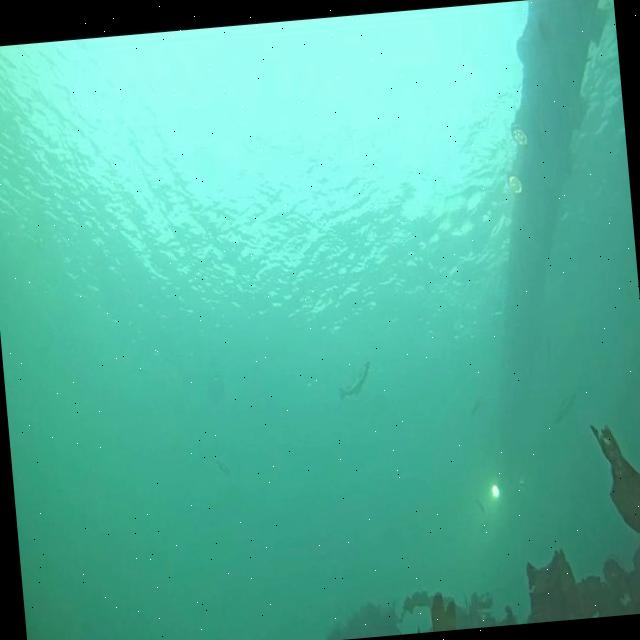fish: (335, 358, 373, 402), (549, 392, 582, 429), (462, 391, 486, 430), (212, 450, 232, 479), (472, 493, 488, 514)
